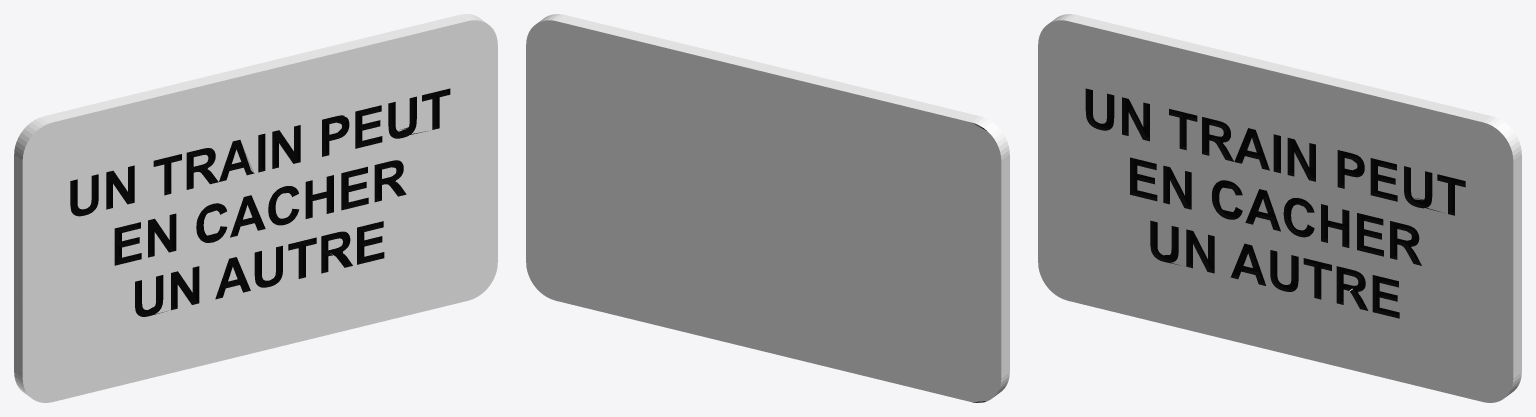
Rendered from pannal.obj.
The picture shows the model from 3 angles, left to right: view 1: azimuth 30°, elevation 25°; view 2: azimuth 150°, elevation 25°; view 3: azimuth 330°, elevation 25°; orthographic projection.
Visible parts, largest first — view 1: pannal_v1; view 2: pannal_v1; view 3: pannal_v1.
Part boxes in pixels (bbox=[...]): pannal_v1: bbox=[14, 14, 497, 402]; pannal_v1: bbox=[526, 14, 1009, 402]; pannal_v1: bbox=[1038, 14, 1521, 402].
Size of the model in its own units: 3.2 by 1.8 by 0.1.
1 material, 1 textured.
